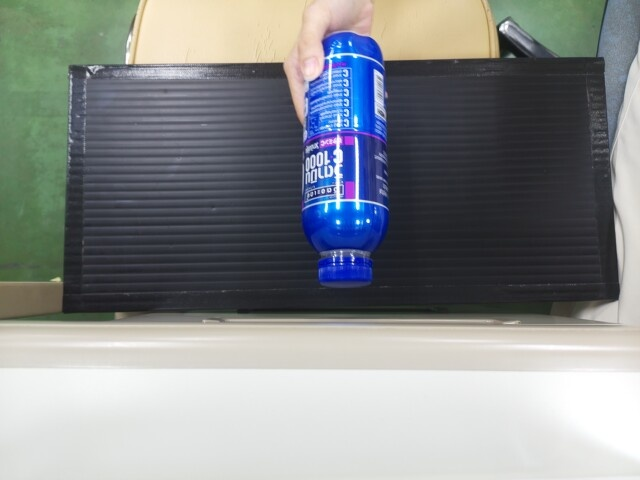plastic_bottle: (302, 35, 385, 288)
